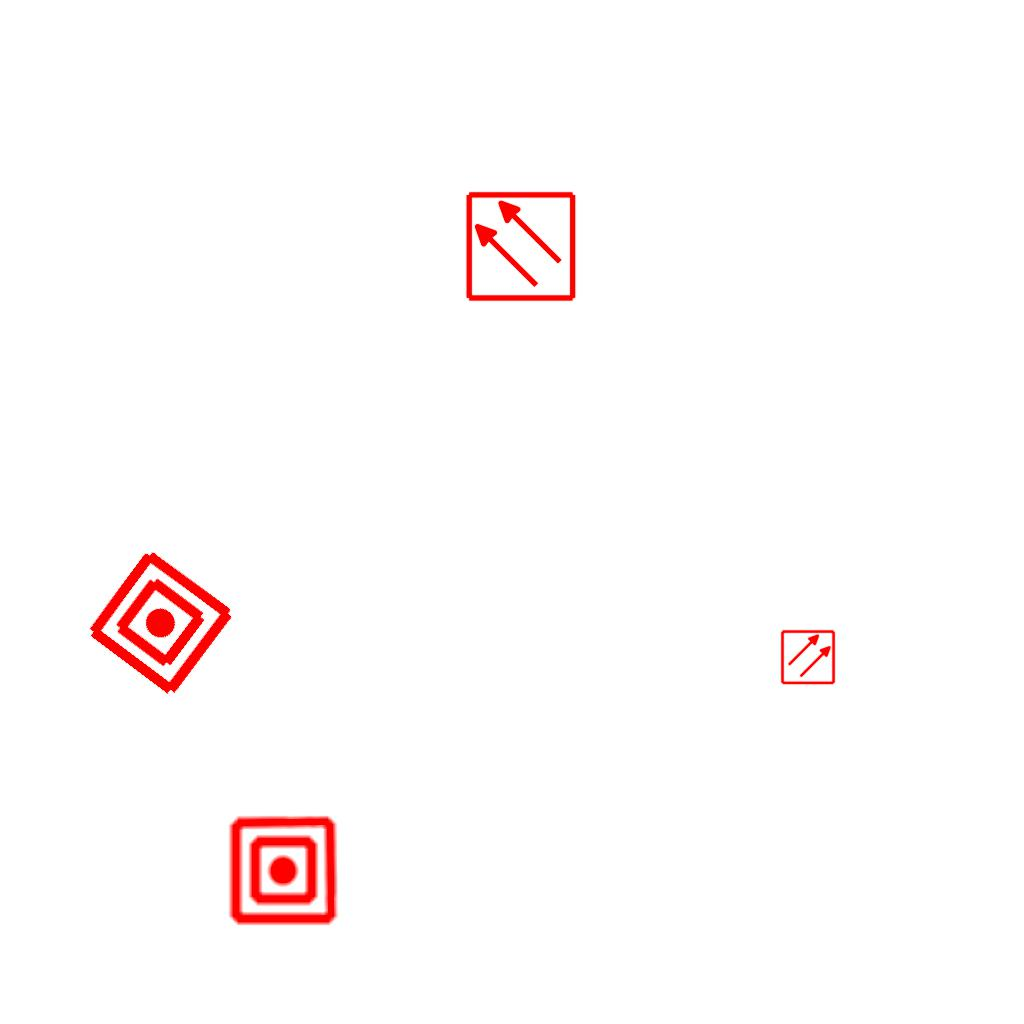NAM-Nichtautomatischer_Melder: (81, 543, 240, 702), (227, 814, 340, 927)
RMO_Rauchmelder_optischer: (464, 190, 577, 303), (780, 629, 836, 685)
